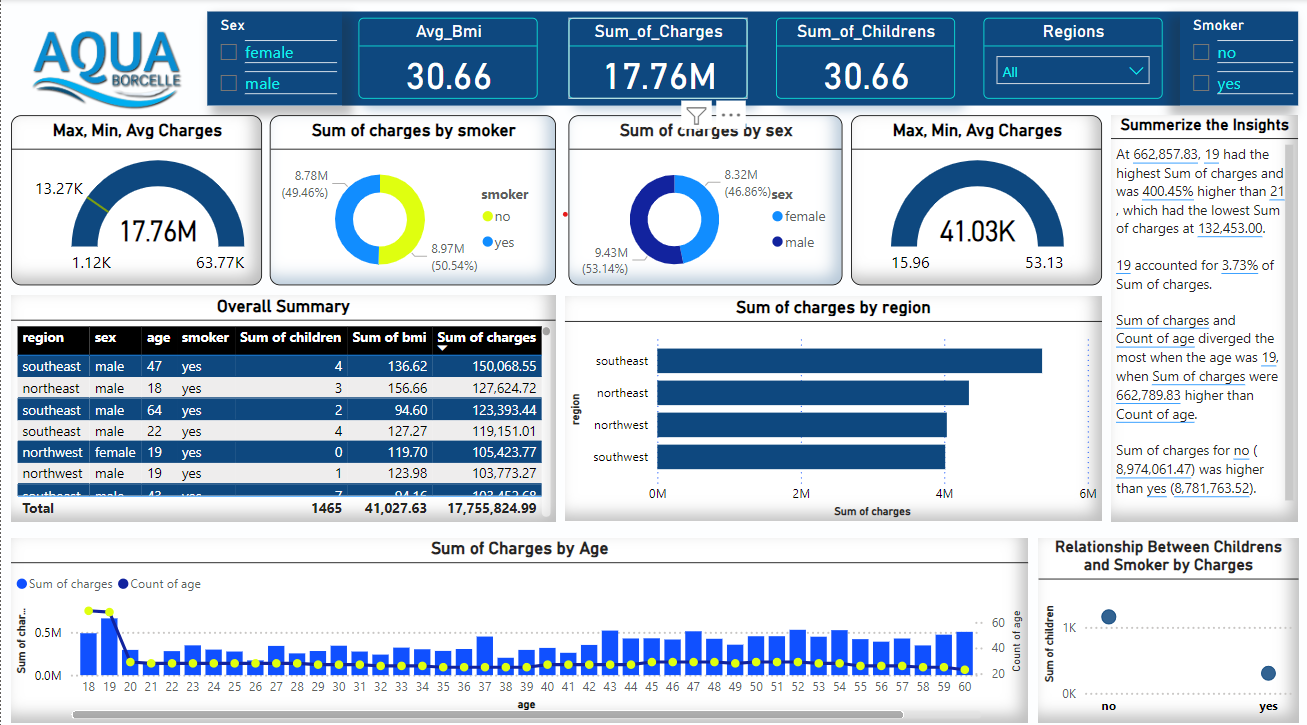

This screenshot's page, from the dashboard's own definition file:
{"tool":"powerbi","page":{"name":"Page 1","canvas":[1280,720],"ordinal":0},"visuals":[{"type":"textbox","box":[201.8,12.2,1067.5,91.7],"z":0},{"type":"card","title":"Avg_Bmi","fields":{"Values":["insurance.Avg_Bmi_Sex"]},"box":[349.7,18.3,174.9,79.5],"z":1000},{"type":"slicer","fields":{"Values":["insurance.sex"]},"box":[201.8,12.2,132.1,91.7],"z":2000},{"type":"slicer","title":"Regions","fields":{"Values":["insurance.region"]},"box":[961.1,18.3,174.9,79.5],"z":3000},{"type":"slicer","fields":{"Values":["insurance.smoker"]},"box":[1153.1,12.2,116.2,91.7],"z":4000},{"type":"gauge","title":"Max, Min, Avg Charges","fields":{"Y":["Sum(insurance.charges)"],"MinValue":["Min(insurance.charges)"],"MaxValue":["Max(insurance.charges)"],"TargetValue":["Avg(insurance.charges)"]},"box":[9.8,113.7,245.8,166.3],"z":5000},{"type":"lineStackedColumnComboChart","title":"Sum of Charges by Age","fields":{"Category":["insurance.age"],"Y":["Sum(insurance.charges)"],"Y2":["CountNonNull(insurance.age)"]},"box":[9.8,527,995.4,181],"z":6000},{"type":"tableEx","title":"Overall Summary","fields":{"Values":["insurance.region","insurance.sex","insurance.age","insurance.smoker","Sum(insurance.children)","Sum(insurance.bmi)","Sum(insurance.charges)"]},"box":[9.8,289.8,533.2,221.3],"z":7000},{"type":"donutChart","fields":{"Category":["insurance.smoker"],"Y":["Sum(insurance.charges)"]},"box":[262.9,113.7,280,166.3],"z":8000},{"type":"textbox","title":"Summerize the Insights","box":[1085.9,113.7,183.4,397.4],"z":9000},{"type":"scatterChart","title":"Relationship Between Childrens and Smoker by Charges ","fields":{"Y":["Sum(insurance.children)"],"X":["insurance.smoker"],"Size":["Sum(insurance.charges)"]},"box":[1015,527,254.3,181],"z":10000},{"type":"donutChart","fields":{"Y":["Sum(insurance.charges)"],"Series":["insurance.sex"]},"box":[555.2,113.7,267.8,166.3],"z":11000},{"type":"clusteredBarChart","fields":{"Category":["insurance.region"],"Y":["Sum(insurance.charges)"]},"box":[551.5,291,525.8,220.1],"z":12000},{"type":"card","title":"Sum_of_Charges","fields":{"Values":["Sum(insurance.charges)"]},"box":[555.2,18.3,174.9,79.5],"z":13000},{"type":"card","title":"Sum_of_Childrens","fields":{"Values":["insurance.Avg_Bmi_Sex"]},"box":[758.2,18.3,174.9,79.5],"z":14000},{"type":"image","box":[0,0,201.8,113.7],"z":15000},{"type":"gauge","title":"Max, Min, Avg Charges","fields":{"TargetValue":["Avg(insurance.charges)"],"Y":["Sum(insurance.bmi)"],"MinValue":["Min(insurance.bmi)"],"MaxValue":["Max(insurance.bmi)"]},"box":[831.5,113.7,245.8,166.3],"z":16000}]}

Visuals, with their boxes in screenshot pixels (x1, y1, x2, y2), scaled from the page's 1280x720 canvas onto the 1307x725 screenshot:
textbox: (left=206, top=12, right=1296, bottom=105)
"Avg_Bmi" card: (left=357, top=18, right=536, bottom=98)
slicer - insurance.sex: (left=206, top=12, right=341, bottom=105)
"Regions" slicer: (left=981, top=18, right=1160, bottom=98)
slicer - insurance.smoker: (left=1177, top=12, right=1296, bottom=105)
"Max, Min, Avg Charges" gauge: (left=10, top=114, right=261, bottom=282)
"Sum of Charges by Age" lineStackedColumnComboChart: (left=10, top=531, right=1026, bottom=713)
"Overall Summary" tableEx: (left=10, top=292, right=554, bottom=515)
donutChart - insurance.smoker x Sum(insurance.charges): (left=268, top=114, right=554, bottom=282)
"Summerize the Insights" textbox: (left=1109, top=114, right=1296, bottom=515)
"Relationship Between Childrens and Smoker by Charges " scatterChart: (left=1036, top=531, right=1296, bottom=713)
donutChart - Sum(insurance.charges) x insurance.sex: (left=567, top=114, right=840, bottom=282)
clusteredBarChart - insurance.region x Sum(insurance.charges): (left=563, top=293, right=1100, bottom=515)
"Sum_of_Charges" card: (left=567, top=18, right=746, bottom=98)
"Sum_of_Childrens" card: (left=774, top=18, right=953, bottom=98)
image: (left=0, top=0, right=206, bottom=114)
"Max, Min, Avg Charges" gauge: (left=849, top=114, right=1100, bottom=282)
